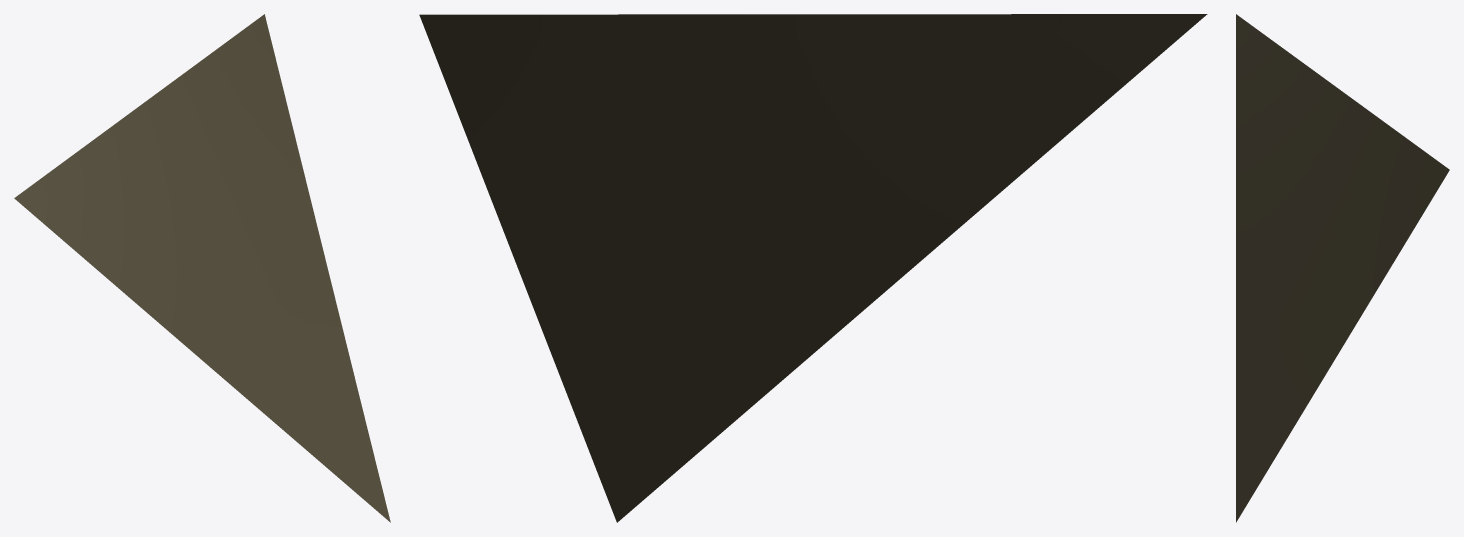
3 renders of one model, left to right at view 1: azimuth 30°, elevation 25°; view 2: azimuth 150°, elevation 25°; view 3: azimuth 270°, elevation 25°, orthographic. The views are drawn at different scales.
Size of the model in its own units: 0.0208 by 0.022 by 0.0121.
Materials: 1 (1 with a texture image).
